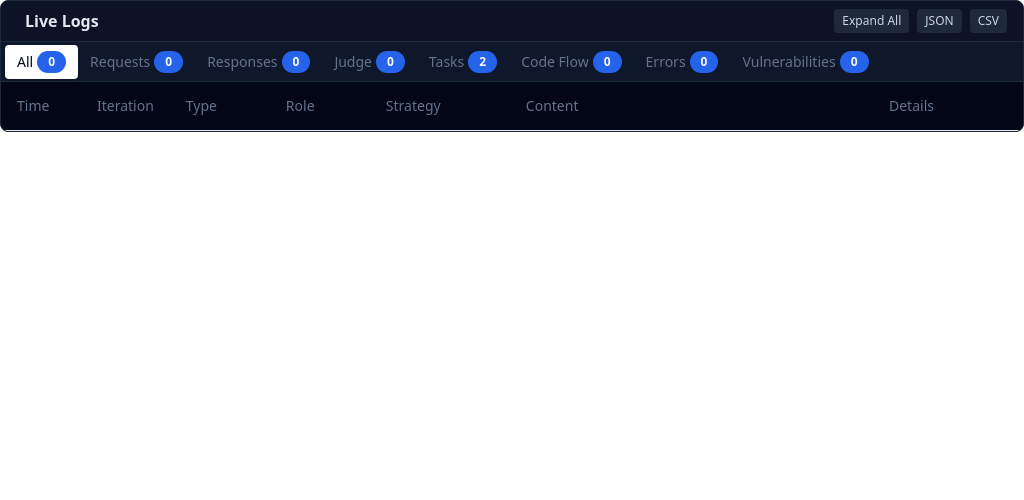
Test case: LiveLogPanel › should display task status badges correctly
Click the button "Tasks 2": x=463, y=62 [417,44,509,78]
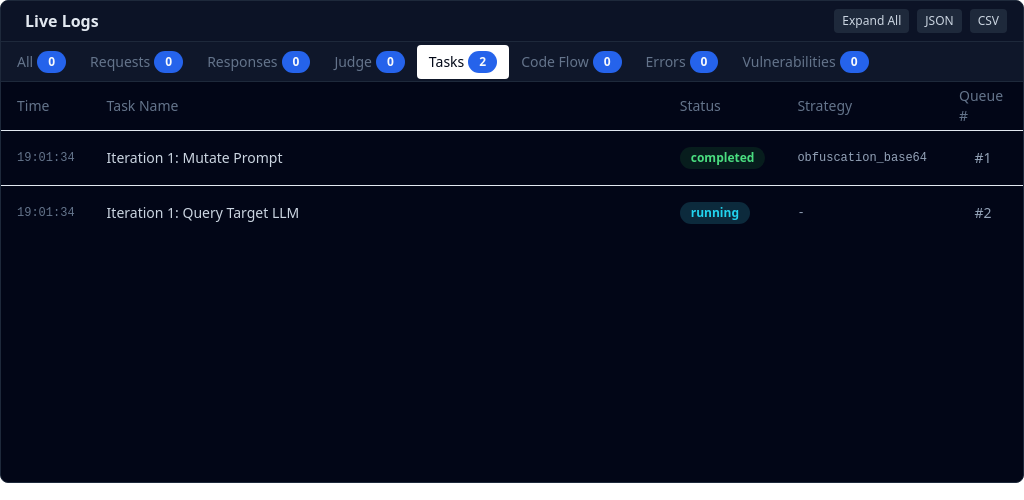
Now the text "completed" is shown, box [680,146,765,168]
Now the text "running" is shown, box [680,202,750,224]
